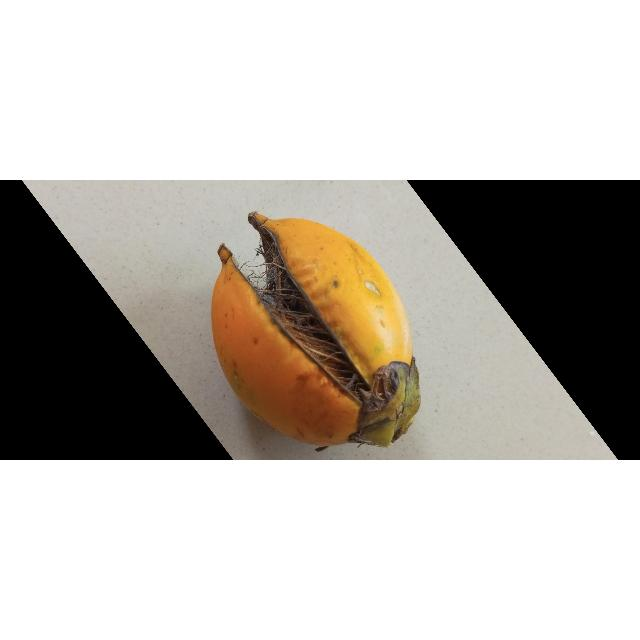damaged: (212, 212, 420, 452)
